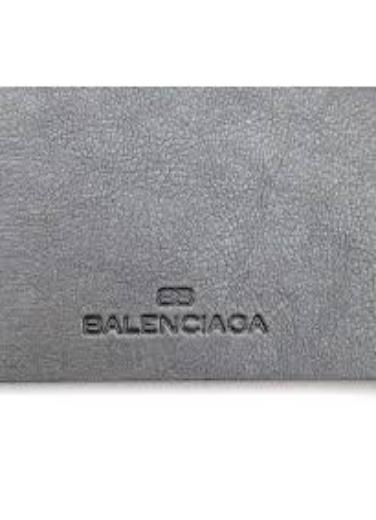BALENCIAGA: (78, 304, 273, 340)
